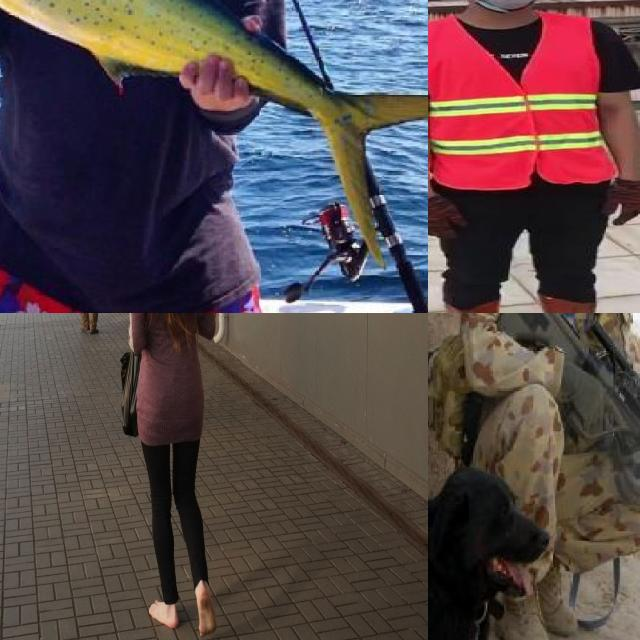Barefoots: (198, 586, 216, 637), (148, 600, 178, 628)
boots: (538, 293, 630, 313)
face_mask: (463, 0, 552, 11)
hand_glove: (602, 179, 640, 224), (428, 195, 465, 240)
hand_noglove: (177, 44, 261, 116)
person: (0, 0, 302, 313), (428, 0, 640, 313), (453, 313, 640, 640)
shoes: (492, 573, 561, 640)
vest: (428, 15, 615, 190)
